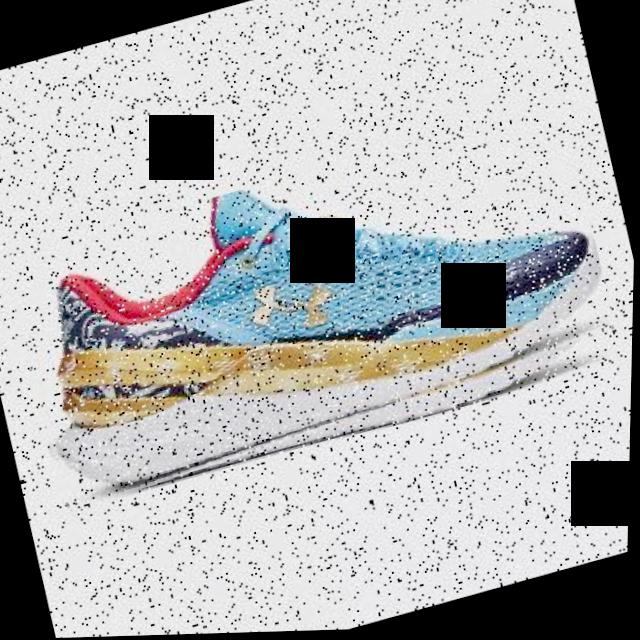shoe: (0, 102, 628, 518)
